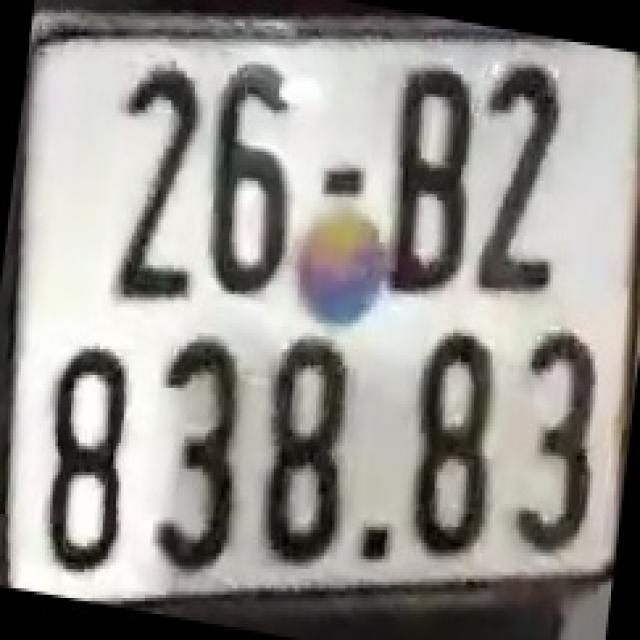2: (114, 62, 198, 300), (479, 58, 561, 294)
3: (155, 336, 240, 572), (514, 326, 600, 553)
6: (208, 55, 292, 298)
8: (260, 333, 348, 566), (411, 326, 498, 556), (45, 342, 126, 572)
B: (384, 61, 474, 298)
